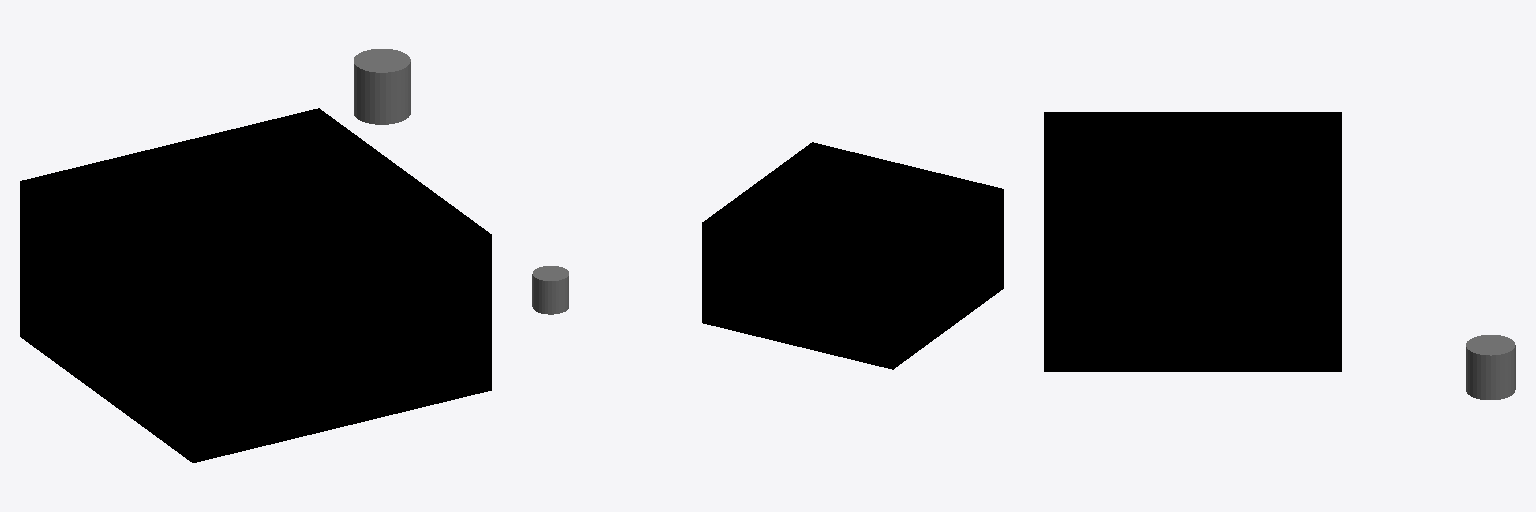
The robot description file, URDF, robot "TUM":
<?xml version="1.0" encoding="UTF-8"?>

<robot name="TUM">

  <link name="base_link">
    <inertial>
      <origin xyz="0 0 0" rpy="0 0 0" />
      <mass value="10" />
      <inertia ixx="0.0833" ixy="0" ixz="0" iyy="0.0833" iyz="0" izz="0.0167" />
    </inertial>
    <visual>
      <origin xyz="0 0 0" rpy="0 0 0" />
      <geometry>
        <box size="0.3048 0.3048 0.1524" />
      </geometry>
      <material name="black">
        <color rgba="0 0 0 1"/>
      </material>
    </visual>
    <collision>
      <origin xyz="0 0 0" rpy="0 0 0" />
      <geometry>
        <box size="0.3048 0.3048 0.1524" />
      </geometry>
    </collision>
  </link>

  <link name="wheel1">
    <inertial>
      <origin xyz="0 0 0" rpy="0 0 0" />
      <mass value="1" />
      <inertia ixx="0.0001" ixy="0" ixz="0" iyy="0.0001" iyz="0" izz="0.0002" />
    </inertial>
    <visual>
      <origin xyz="0.1524 0.1524 0" rpy="0 0 0" />
      <geometry>
        <cylinder length="0.0508" radius="0.0254" />
      </geometry>
      <material name="grey">
        <color rgba="0.5 0.5 0.5 1"/>
      </material>
    </visual>
    <collision>
      <origin xyz="0.1524 0.1524 0" rpy="0 0 0" />
      <geometry>
        <cylinder length="0.0508" radius="0.0254" />
      </geometry>
    </collision>
  </link>

  <joint name="joint_wheel1" type="continuous">
    <origin xyz="0.1524 0.1524 0" rpy="0 0 0" />
    <parent link="base_link" />
    <child link="wheel1" />
    <axis xyz="0 0 1" />
  </joint>

  <link name="wheel2">
    <inertial>
      <origin xyz="0 0 0" rpy="0 0 0" />
      <mass value="1" />
      <inertia ixx="0.0001" ixy="0" ixz="0" iyy="0.0001" iyz="0" izz="0.0002" />
    </inertial>
    <visual>
      <origin xyz="0.1524 0.1524 0" rpy="0 0 0" />
      <geometry>
        <cylinder length="0.0508" radius="0.0254" />
      </geometry>
      <material name="grey">
        <color rgba="0.5 0.5 0.5 1"/>
      </material>
    </visual>
    <collision>
      <origin xyz="0.1524 0.1524 0" rpy="0 0 0" />
      <geometry>
        <cylinder length="0.0508" radius="0.0254" />
      </geometry>
    </collision>
  </link>

  <joint name="joint_wheel2" type="continuous">
    <origin xyz="0.1524 0.1524 0" rpy="0 0 0" />
    <parent link="base_link" />
    <child link="wheel2" />
    <axis xyz="0 0 1" />
  </joint>

  <link name="wheel3">
    <inertial>
      <origin xyz="0 0 0" rpy="0 0 0" />
      <mass value="1" />
      <inertia ixx="0.0001" ixy="0" ixz="0" iyy="0.0001" iyz="0" izz="0.0002" />
    </inertial>
    <visual>
      <origin xyz="0.1524 0.1524 0" rpy="0 0 0" />
      <geometry>
        <cylinder length="0.0508" radius="0.0254" />
      </geometry>
      <material name="grey">
        <color rgba="0.5 0.5 0.5 1"/>
      </material>
    </visual>
    <collision>
      <origin xyz="0.1524 0.1524 0" rpy="0 0 0" />
      <geometry>
        <cylinder length="0.0508" radius="0.0254" />
      </geometry>
    </collision>
  </link>

  <joint name="joint_wheel3" type="continuous">
    <origin xyz="0.1524 0.1524 0" rpy="0 0 0" />
    <parent link="base_link" />
    <child link="wheel3" />
    <axis xyz="0 0 1" />
  </joint>

  <link name="wheel4">
    <inertial>
      <origin xyz="0 0 0" rpy="0 0 0" />
      <mass value="1" />
      <inertia ixx="0.0001" ixy="0" ixz="0" iyy="0.0001" iyz="0" izz="0.0002" />
    </inertial>
    <visual>
      <origin xyz="0.1524 0.1524 0" rpy="0 0 0" />
      <geometry>
        <cylinder length="0.0508" radius="0.0254" />
      </geometry>
      <material name="grey">
        <color rgba="0.5 0.5 0.5 1"/>
      </material>
    </visual>
    <collision>
      <origin xyz="0.1524 0.1524 0" rpy="0 0 0" />
      <geometry>
        <cylinder length="0.0508" radius="0.0254" />
      </geometry>
    </collision>
  </link>

  <joint name="joint_wheel4" type="continuous">
    <origin xyz="0.1524 0.1524 0" rpy="0 0 0" />
    <parent link="base_link" />
    <child link="wheel4" />
    <axis xyz="0 0 1" />
  </joint>
</robot>

--- Facts derived from the render (not from the file) ---
3 views of the same robot in one strip: view 1: azimuth 30°, elevation 25°; view 2: azimuth 150°, elevation 25°; view 3: azimuth 270°, elevation 25° (orthographic).
Model TUM with 5 links and 4 joints (4 continuous), rooted at base_link, posed every joint at zero.
Visible links, largest first — view 1: base_link, wheel1; view 2: base_link, wheel1; view 3: base_link, wheel1.
Link boxes in pixels (x1,y1,x2,y2): base_link: [20, 108, 491, 462]; wheel1: [354, 49, 410, 124]; base_link: [702, 142, 1003, 369]; wheel1: [532, 266, 568, 314]; base_link: [1044, 112, 1341, 371]; wheel1: [1466, 335, 1515, 399].
Bounding box of the posed robot: 0.4826 × 0.4826 × 0.1524 m (x, y, z).
Geometry: primitives only (box / cylinder / sphere), no mesh files.